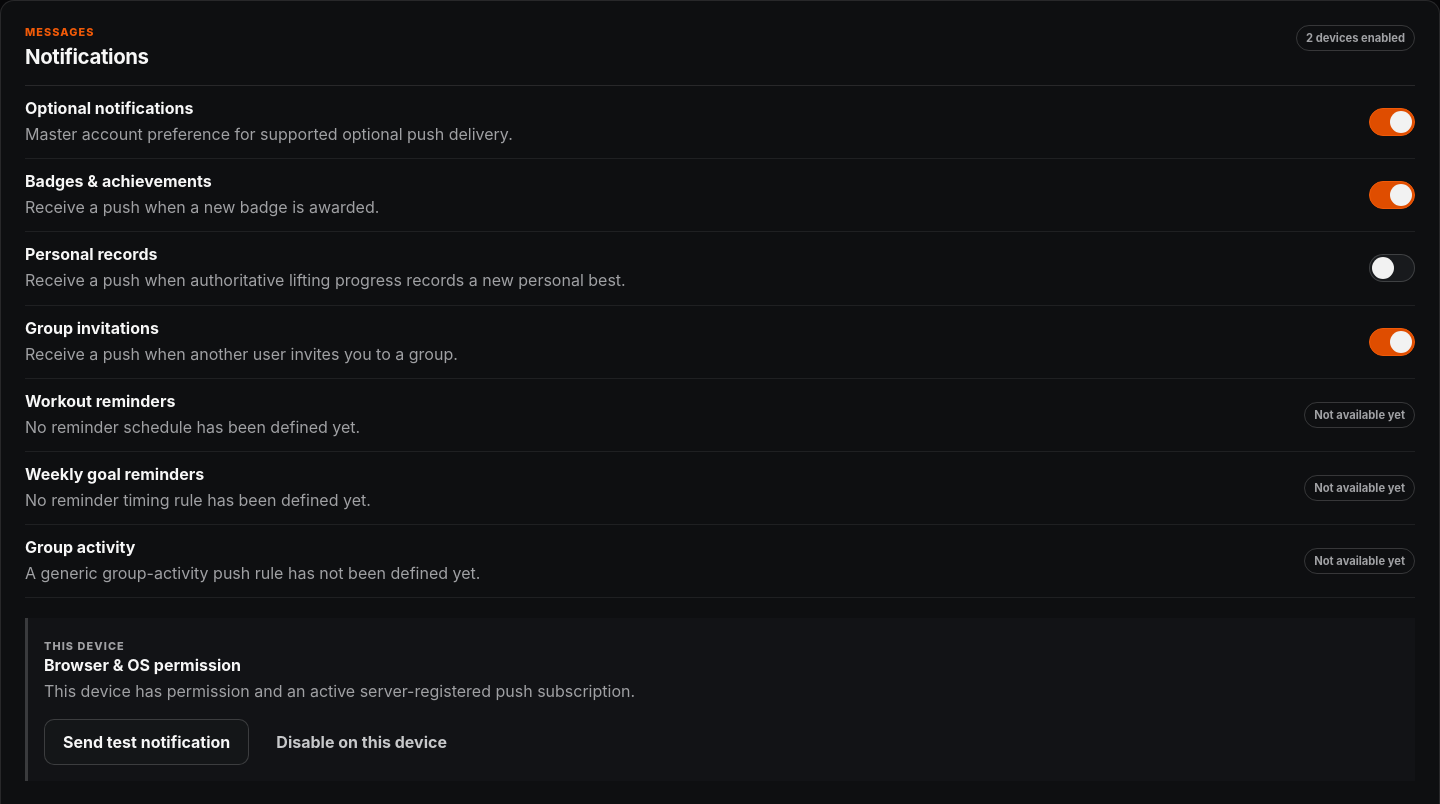
Phase 15.6D Settings integration gate › revokes only the current device while another registered device remains active
This screenshot has width=1440, height=804.
expect the text "2 devices enabled" is shown: met, box [1296,25,1415,51]
expect the button "Send test notification" is shown: met, box [44,719,249,765]
Click the button "Disable on this device" at (362, 742), box [257,719,466,765]
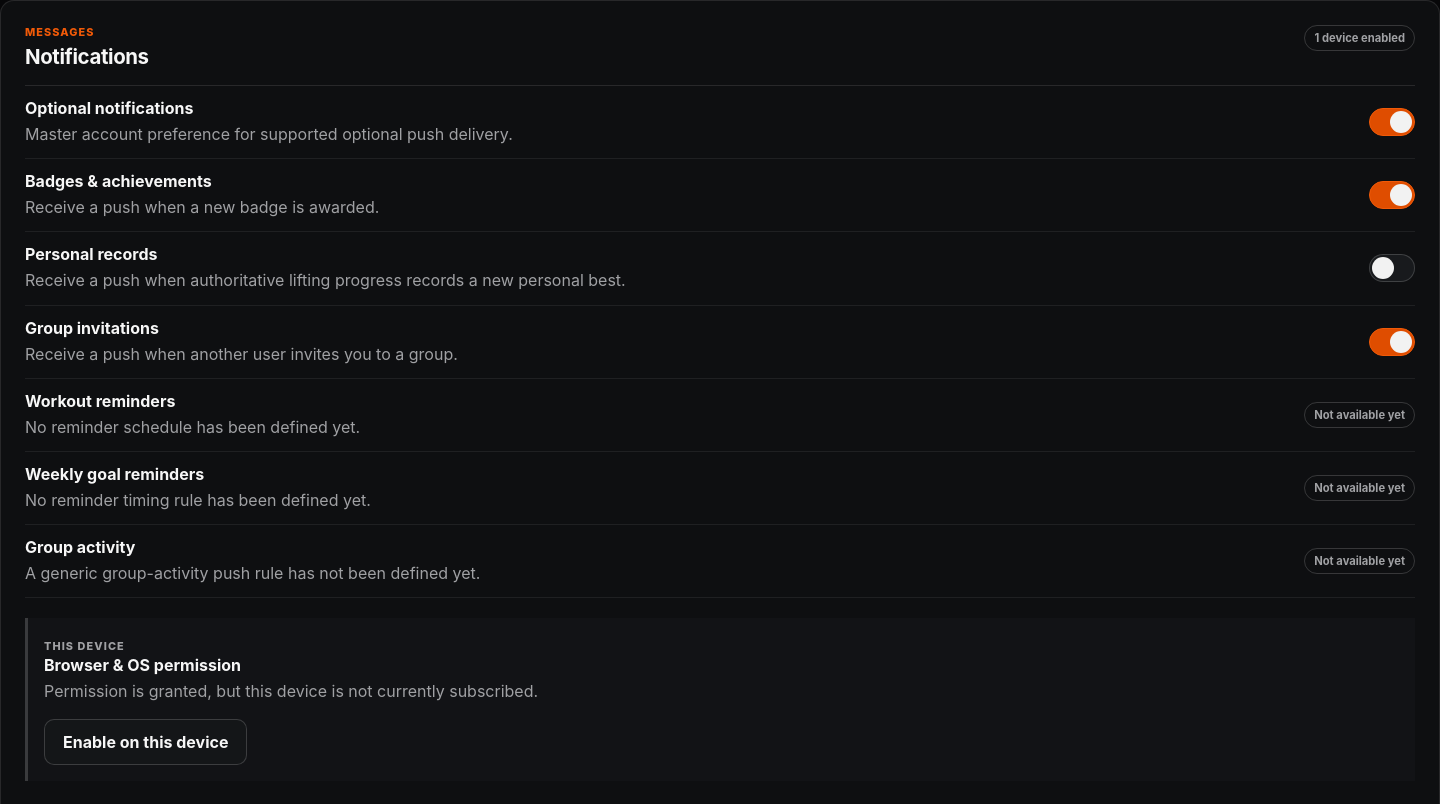
expect the text "1 device enabled" is shown: met, box [1304,25,1415,51]
